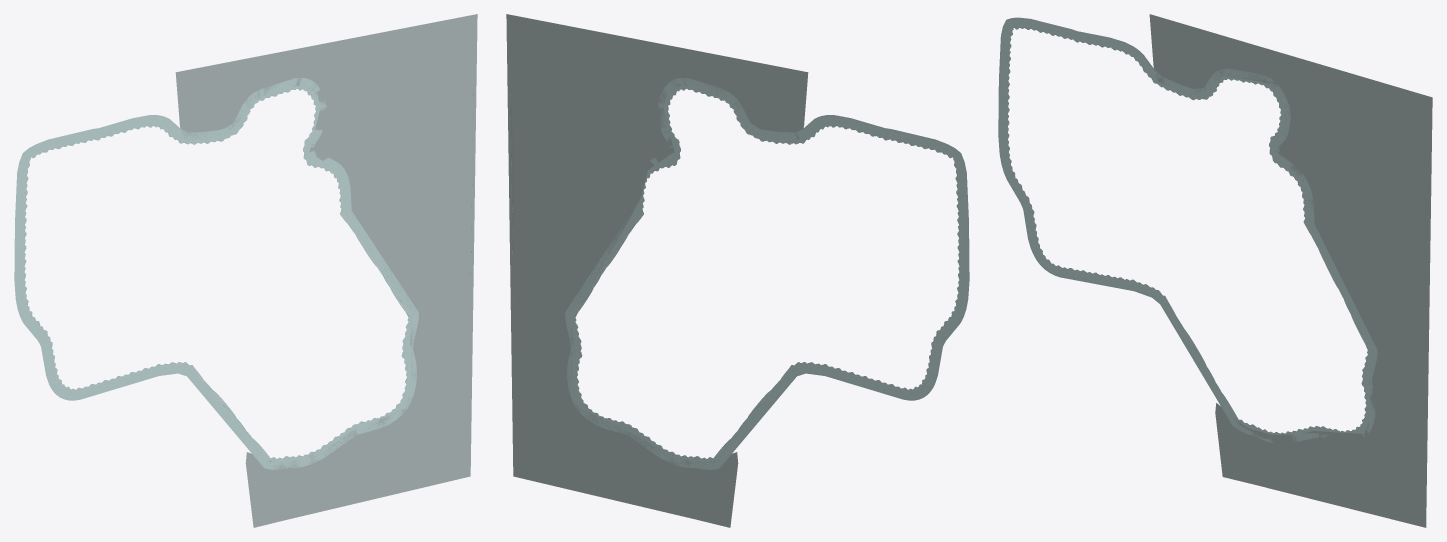
The picture shows the model from 3 angles, left to right: view 1: azimuth 30°, elevation 25°; view 2: azimuth 150°, elevation 25°; view 3: azimuth 330°, elevation 25°; orthographic projection. The views are drawn at different scales.
Parts seen in each view (by area): view 1: Fill_Left, Edge; view 2: Fill_Left, Edge; view 3: Fill_Left, Edge.
Part boxes in pixels (x1,y1,x2,y2): Fill_Left: [175, 14, 477, 527]; Edge: [14, 78, 418, 469]; Fill_Left: [506, 14, 808, 527]; Edge: [565, 78, 969, 469]; Fill_Left: [1149, 14, 1432, 527]; Edge: [998, 17, 1377, 442].
Bounding box in the file's own units: 888638 × 872945 × 0.0522.
